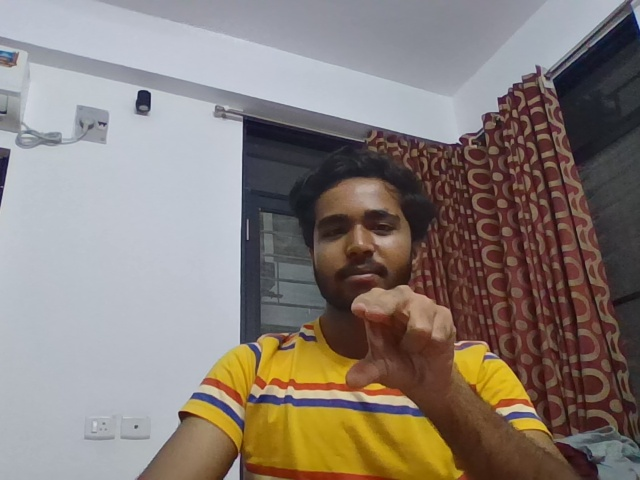No: (332, 275, 479, 419)
